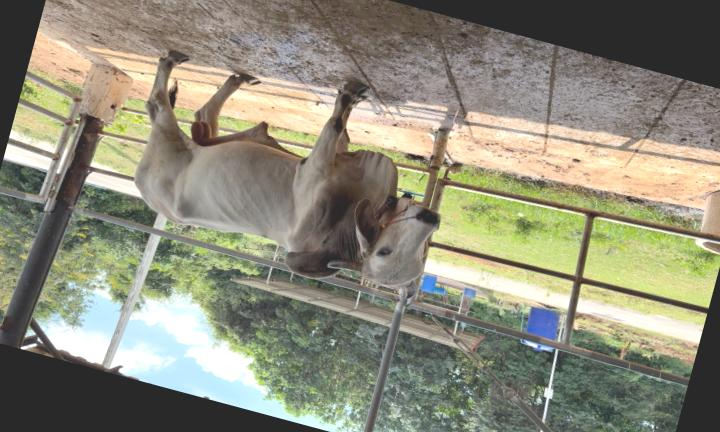Brahman: (134, 51, 440, 298)
